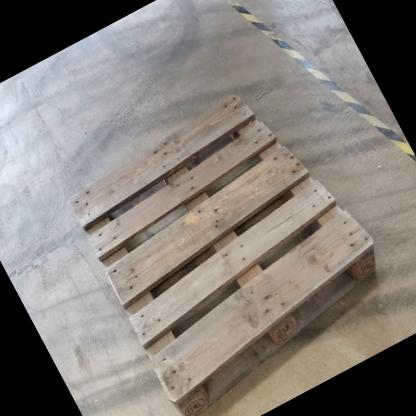BoxFace: (61, 82, 383, 416)
